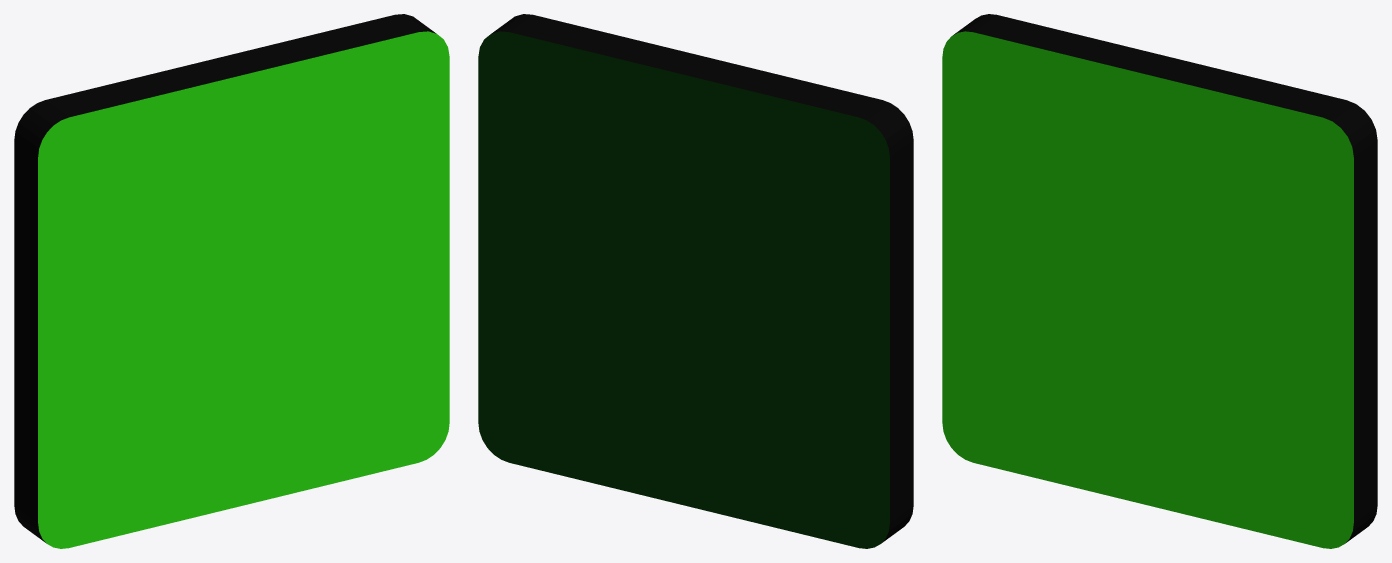
The model's file is tetra4.glb.
3 renders of one model, left to right at view 1: azimuth 30°, elevation 25°; view 2: azimuth 150°, elevation 25°; view 3: azimuth 330°, elevation 25°, orthographic.
Parts seen in each view (by area): view 1: Cube; view 2: Cube; view 3: Cube.
Boxes of the visible parts, bbox=[...] form: Cube: bbox=[14, 14, 449, 548]; Cube: bbox=[478, 14, 913, 548]; Cube: bbox=[942, 14, 1377, 548].
Bounding box in the file's own units: 20 × 20 × 2.
